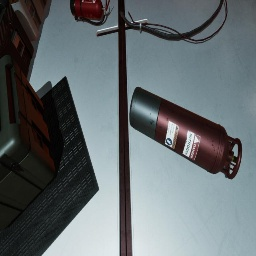FireExtinguisher ]: (70, 0, 110, 25)
NitrogenTank ,: (129, 87, 242, 179)
